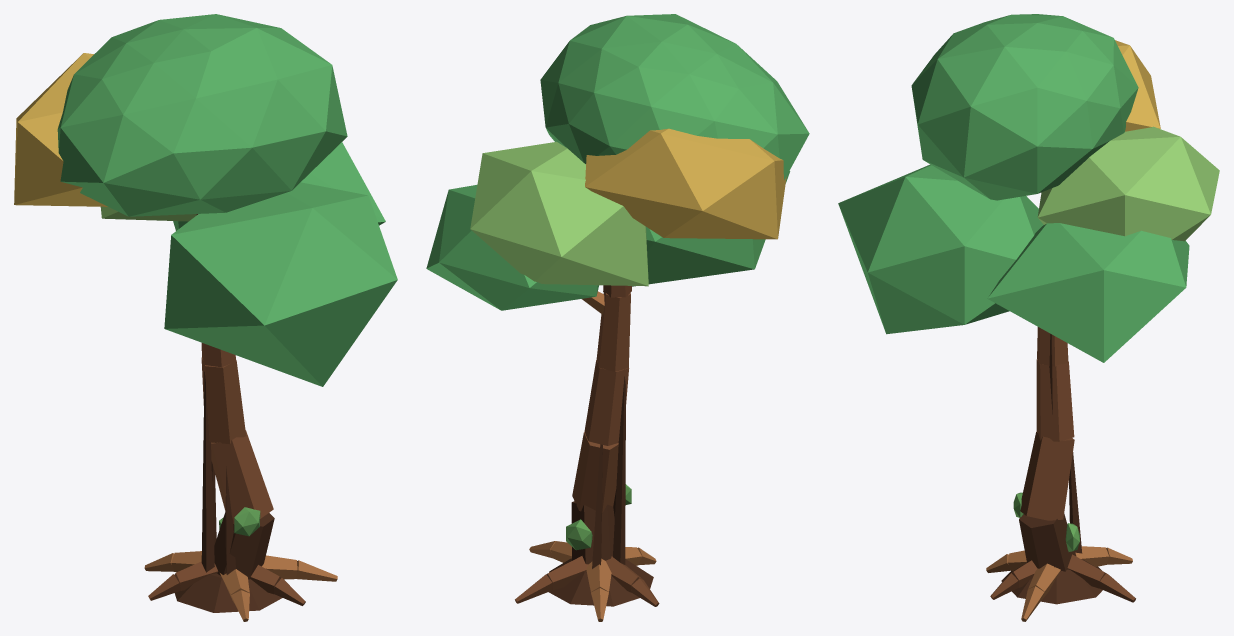
File: tree_crooked_c.glb
3 renders of one model, left to right at view 1: azimuth 30°, elevation 25°; view 2: azimuth 150°, elevation 25°; view 3: azimuth 270°, elevation 25°, orthographic. The views are drawn at different scales.
Visible parts, largest first — view 1: TreeCrookedC; view 2: TreeCrookedC; view 3: TreeCrookedC.
Boxes of the visible parts, x1,y1,x2,y2 form: TreeCrookedC: (14, 14, 397, 621); TreeCrookedC: (426, 14, 809, 621); TreeCrookedC: (838, 14, 1219, 621).
Bounding box in the file's own units: 8.07 × 12.58 × 8.08.
